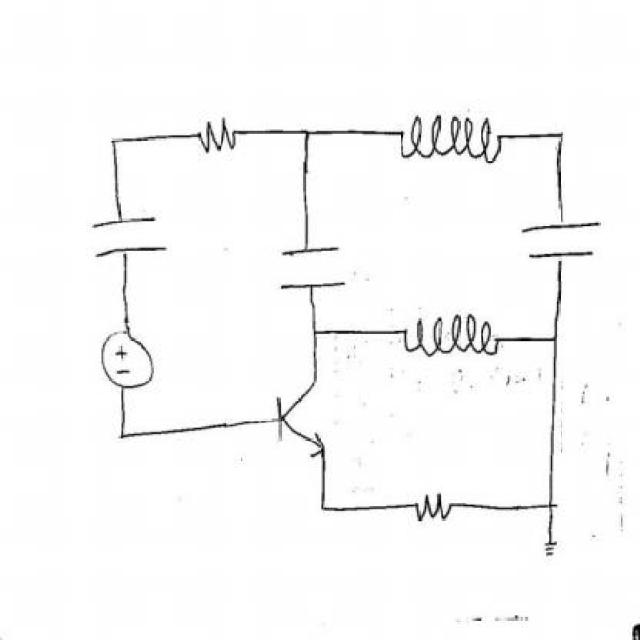capacitor: (272, 242, 359, 292), (519, 216, 603, 266), (81, 216, 174, 260)
ground: (540, 536, 564, 564)
inductor: (395, 108, 508, 166), (402, 310, 504, 360)
resistor: (412, 486, 458, 530), (196, 117, 240, 156)
transistor: (270, 377, 330, 459)
voltage_source: (102, 328, 154, 391)
